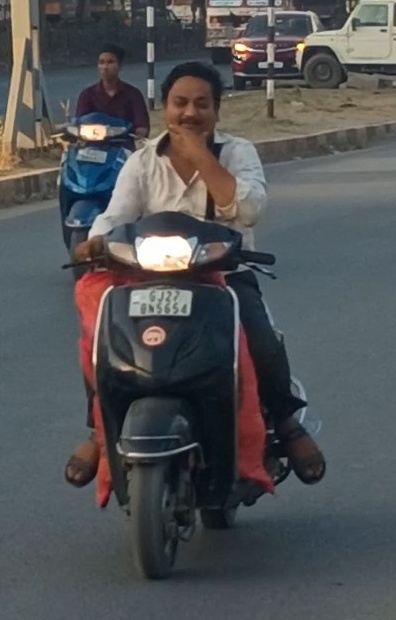BikeWithRider: (60, 58, 327, 579), (50, 43, 153, 273)
NoHelmet: (155, 58, 228, 149), (91, 47, 125, 84)
